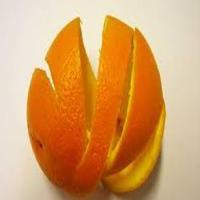biodegradable: (26, 15, 167, 195)
